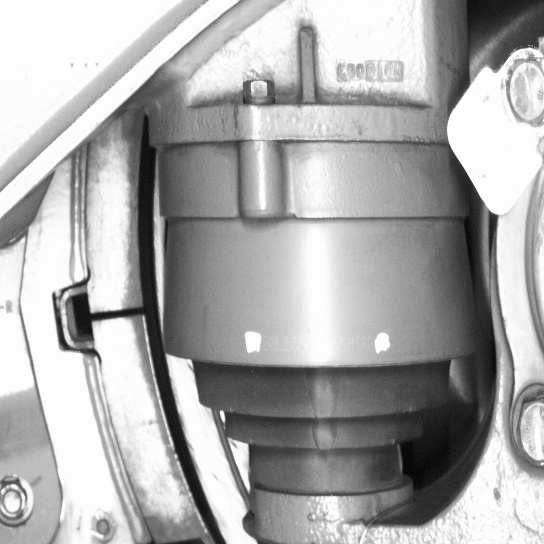KnifeSwitch: (87, 141, 230, 542)
